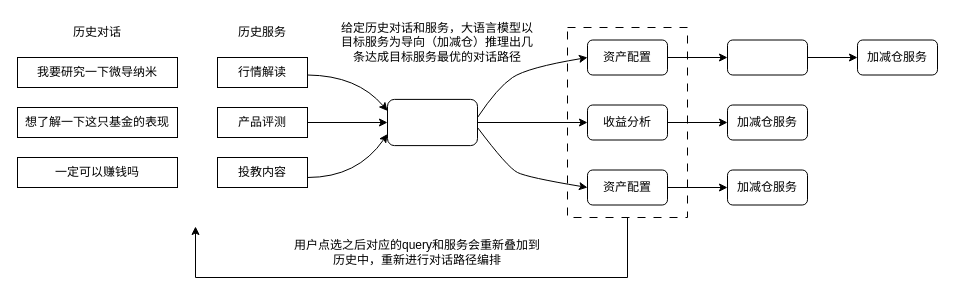
Some shapes in this 955 by 303 pixel diagram are drawn without their labels. The shapes that lost their labels are listed below. From the top down, each one's centre as x and y in pixels, then its label:
the point at 767,57: 基金经理评测
the point at 432,122: LLM
